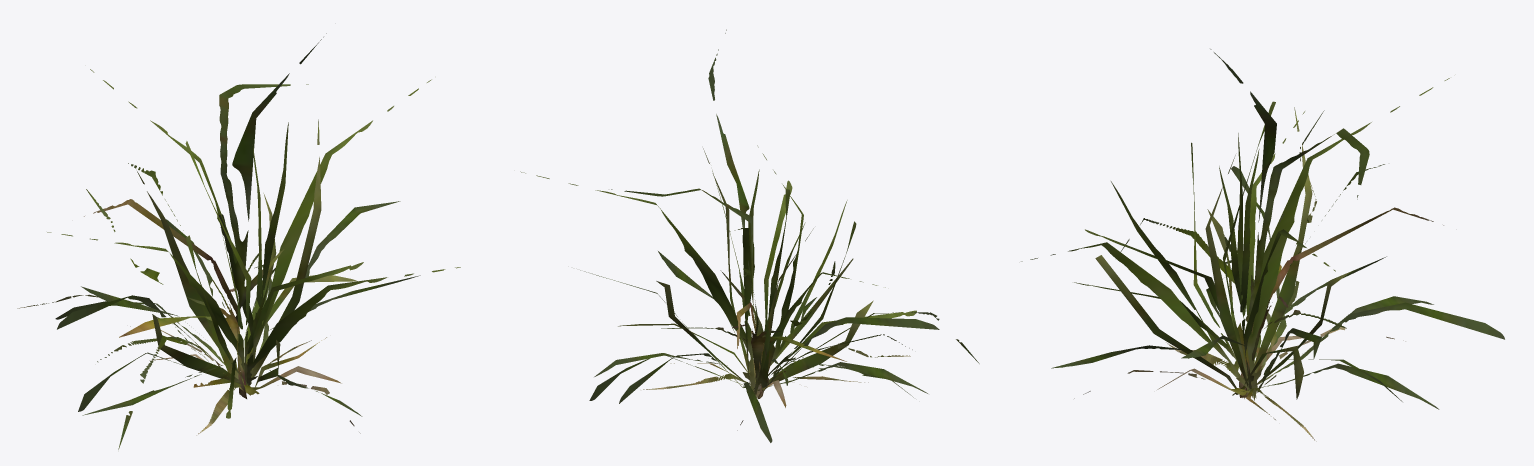
3 renders of one model, left to right at view 1: azimuth 30°, elevation 25°; view 2: azimuth 150°, elevation 25°; view 3: azimuth 270°, elevation 25°, orthographic. The views are drawn at different scales.
Parts seen in each view (by area): view 1: grass_medium_01__e_lod1; view 2: grass_medium_01__e_lod1; view 3: grass_medium_01__e_lod1.
Boxes of the visible parts, x1,y1,x2,y2 form: grass_medium_01__e_lod1: (17,33,460,449); grass_medium_01__e_lod1: (520,29,979,442); grass_medium_01__e_lod1: (1021,49,1504,441).
Size of the model in its own units: 0.1758 by 0.1457 by 0.1611.
Materials: 1 (1 with a texture image).
